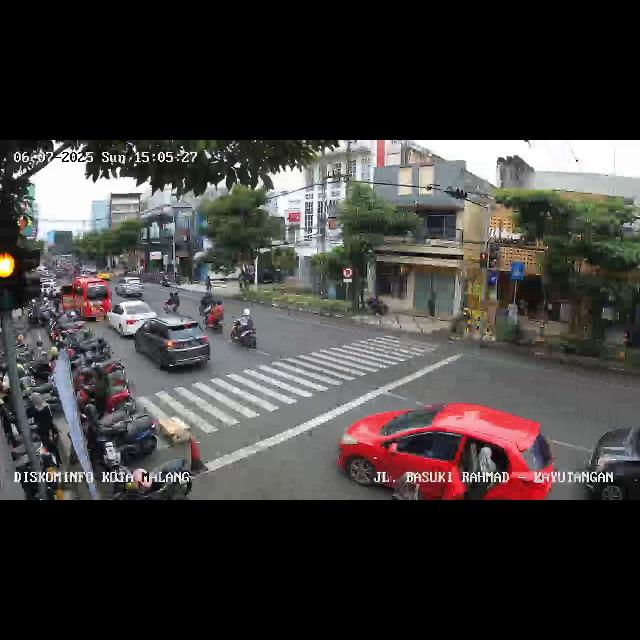car: (338, 400, 556, 500), (132, 316, 212, 374), (588, 418, 640, 500), (59, 278, 110, 322), (106, 300, 158, 338), (115, 278, 145, 300)
motorcycle: (230, 308, 260, 352), (202, 296, 224, 330), (162, 293, 182, 315)
